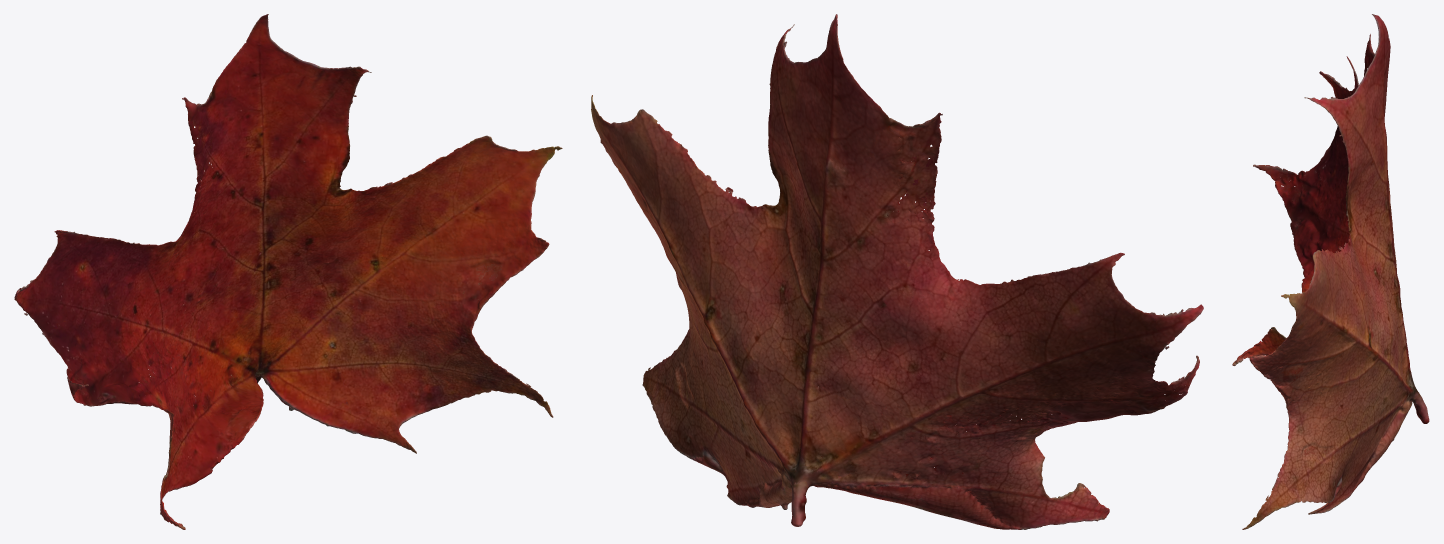
File: maple.glb
The picture shows the model from 3 angles, left to right: view 1: azimuth 30°, elevation 25°; view 2: azimuth 150°, elevation 25°; view 3: azimuth 270°, elevation 25°; orthographic projection. The views are drawn at different scales.
Parts seen in each view (by area): view 1: Maple_leaf_Maple_leaf_0; view 2: Maple_leaf_Maple_leaf_0; view 3: Maple_leaf_Maple_leaf_0.
Boxes of the visible parts, left/top/right/bottom form: Maple_leaf_Maple_leaf_0: left=14, top=14, right=562, bottom=529; Maple_leaf_Maple_leaf_0: left=591, top=14, right=1203, bottom=529; Maple_leaf_Maple_leaf_0: left=1232, top=14, right=1429, bottom=529.
Bounding box in the file's own units: 500 × 403 × 162.
1 material, 1 textured.
